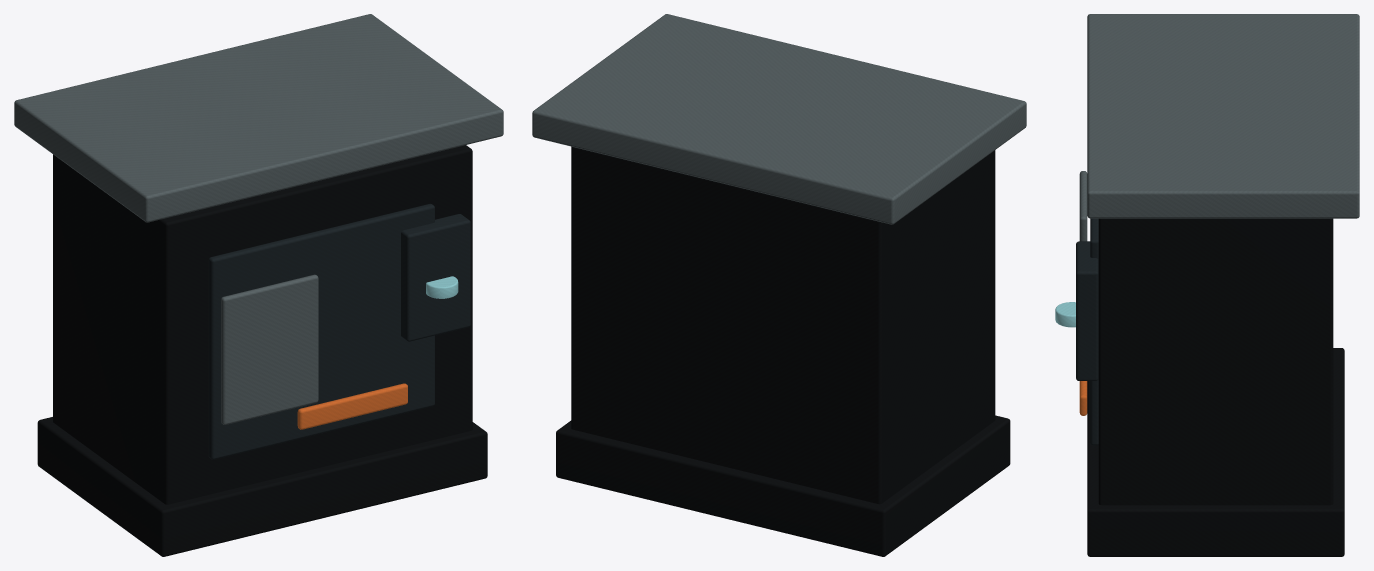
Rendered from PortableGenerator.glb.
The picture shows the model from 3 angles, left to right: view 1: azimuth 30°, elevation 25°; view 2: azimuth 150°, elevation 25°; view 3: azimuth 270°, elevation 25°; orthographic projection. The views are drawn at different scales.
Parts seen in each view (by area): view 1: PortableGenerator_Mesh; view 2: PortableGenerator_Mesh; view 3: PortableGenerator_Mesh.
Boxes of the visible parts, box(x1,y1,x2,y2) form: PortableGenerator_Mesh: box(14, 14, 503, 556); PortableGenerator_Mesh: box(532, 14, 1026, 556); PortableGenerator_Mesh: box(1055, 14, 1359, 556).
Bounding box in the file's own units: 1.12 × 1.09 × 0.805.
5 materials, 5 textured.
